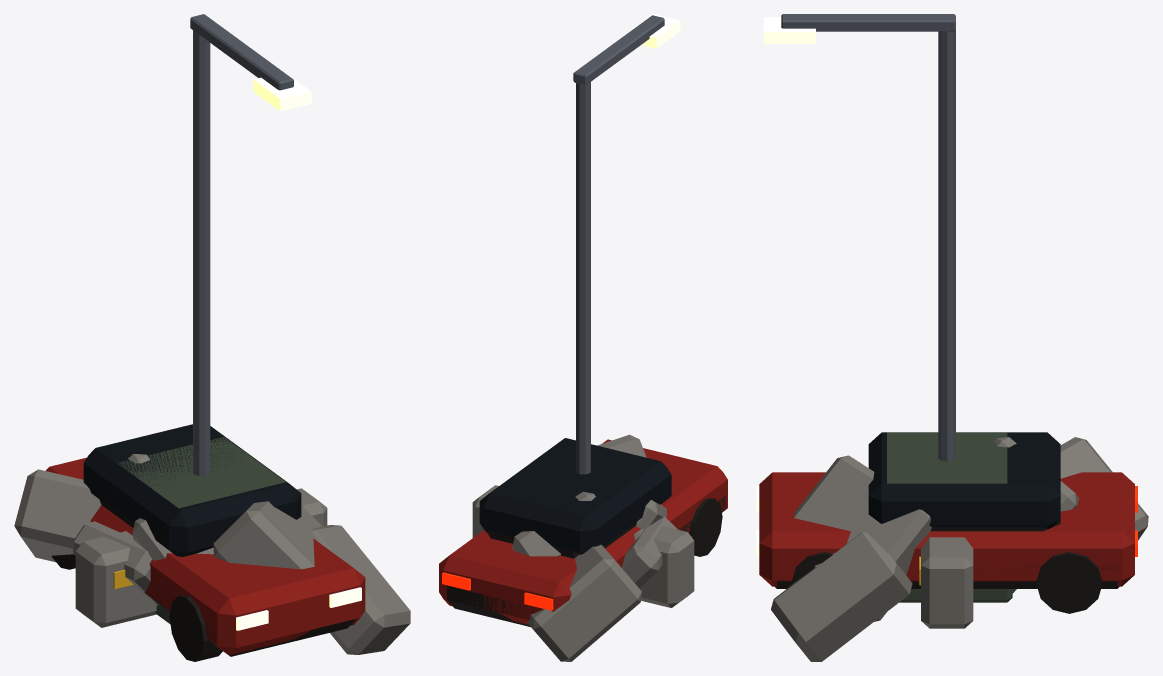
The model's file is props.glb.
The picture shows the model from 3 angles, left to right: view 1: azimuth 30°, elevation 25°; view 2: azimuth 150°, elevation 25°; view 3: azimuth 270°, elevation 25°; orthographic projection. The views are drawn at different scales.
Parts seen in each view (by area): view 1: car, rubble, streetlight, crate, barrier, wreck; view 2: car, rubble, streetlight, barrier, wreck; view 3: car, rubble, streetlight, crate, barrier, wreck.
Boxes of the visible parts, x1,y1,x2,y2 form: car: [46, 424, 365, 661]; rubble: [14, 453, 410, 654]; streetlight: [190, 14, 311, 476]; crate: [117, 437, 285, 624]; barrier: [75, 488, 327, 627]; wreck: [99, 499, 356, 656]; car: [439, 438, 727, 624]; rubble: [512, 434, 677, 661]; streetlight: [573, 14, 680, 474]; barrier: [472, 485, 694, 607]; wreck: [447, 495, 725, 626]; car: [756, 432, 1137, 613]; rubble: [771, 437, 1148, 661]; streetlight: [763, 14, 955, 461]; crate: [887, 432, 1012, 602]; barrier: [919, 537, 973, 628]; wreck: [775, 520, 1119, 588].
Size of the model in its own units: 3.34 by 7.49 by 4.49.
